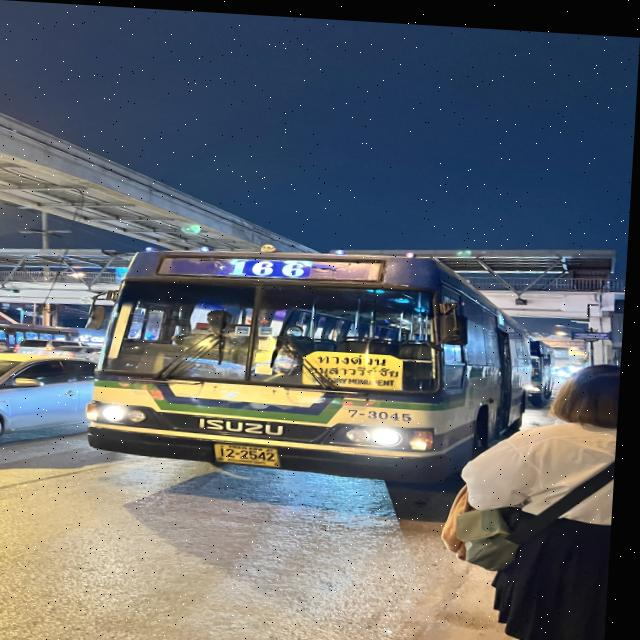BMTA-bus: (87, 236, 538, 490)
Bus-Line-Number: (226, 252, 320, 274)
Destination-Sign-Normal-Expressway: (304, 344, 413, 385)
